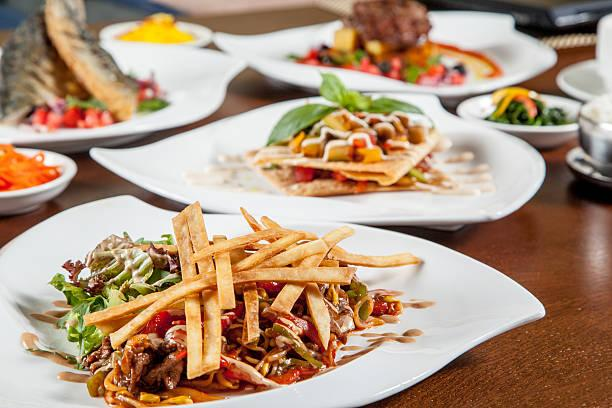Braised Crucian Carp: (0, 218, 530, 408), (95, 95, 544, 233), (215, 10, 555, 105)
